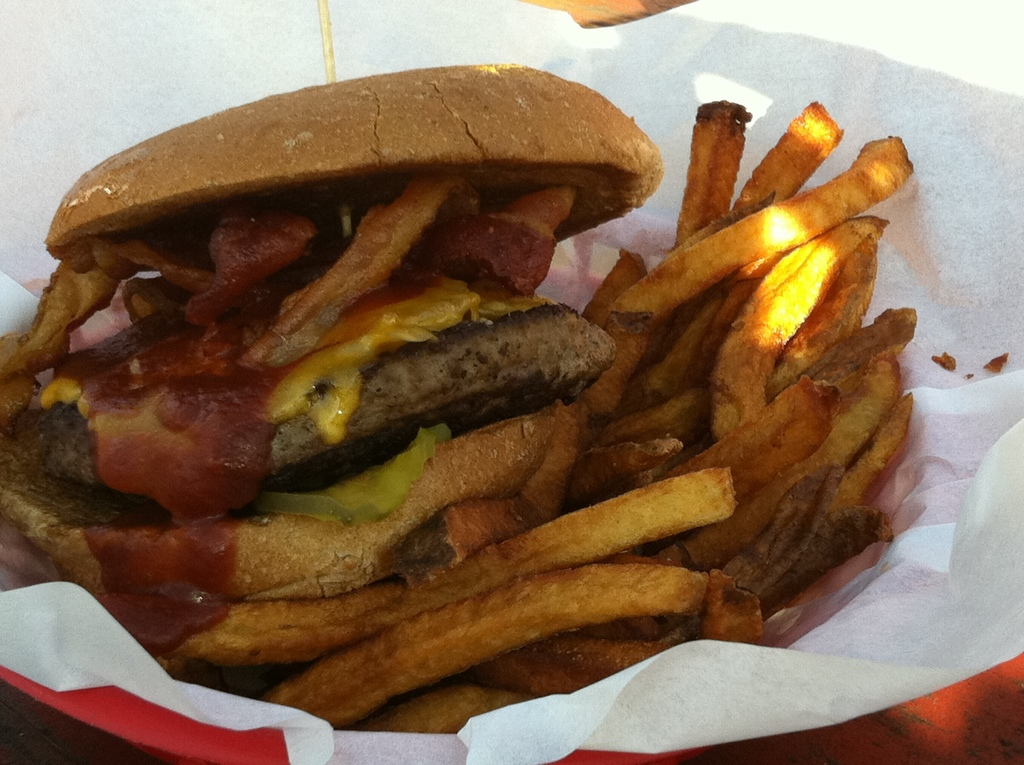French fries: (155, 98, 917, 733)
